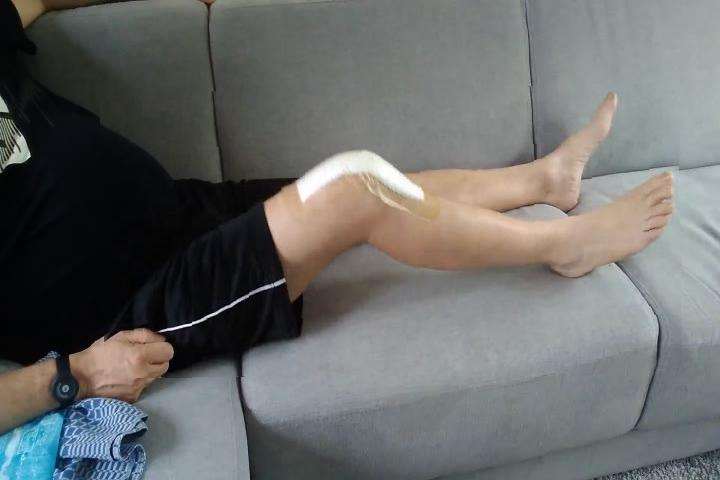lowerbody: (102, 86, 682, 378)
